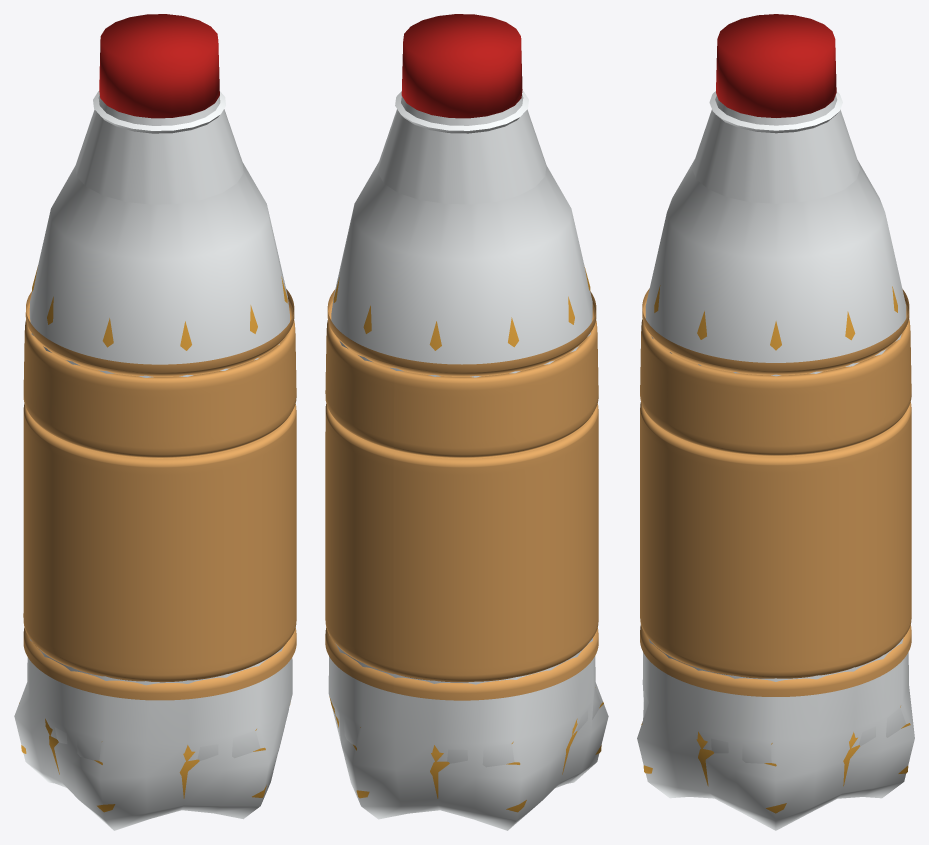
File: v2_pet500_orange_minimal.glb
The picture shows the model from 3 angles, left to right: view 1: azimuth 30°, elevation 25°; view 2: azimuth 150°, elevation 25°; view 3: azimuth 270°, elevation 25°; orthographic projection.
Parts seen in each view (by area): view 1: Label_band, Glass, Cap, Liquid; view 2: Label_band, Glass, Cap, Liquid; view 3: Label_band, Glass, Cap, Liquid.
Boxes of the visible parts, bbox=[...] form: Label_band: bbox=[23, 289, 296, 700]; Glass: bbox=[14, 91, 292, 830]; Cap: bbox=[99, 14, 219, 118]; Liquid: bbox=[19, 266, 290, 812]; Label_band: bbox=[325, 289, 598, 700]; Glass: bbox=[328, 90, 608, 830]; Cap: bbox=[401, 14, 522, 118]; Liquid: bbox=[329, 267, 603, 812]; Label_band: bbox=[640, 288, 911, 696]; Glass: bbox=[637, 91, 914, 830]; Cap: bbox=[716, 14, 836, 117]; Liquid: bbox=[641, 285, 910, 813].
Bounding box in the file's own units: 0.0707 × 0.2062 × 0.0696.
